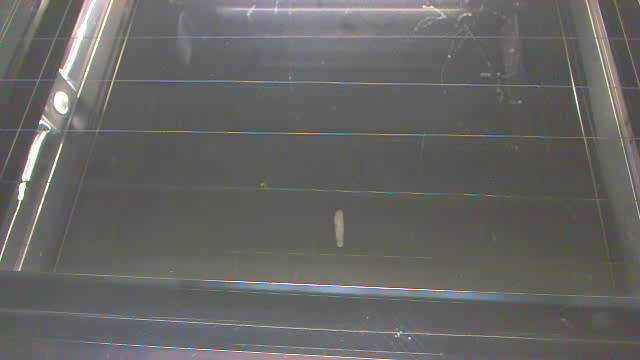alpha: (326, 200, 358, 251), (178, 8, 198, 66), (255, 173, 274, 199)
